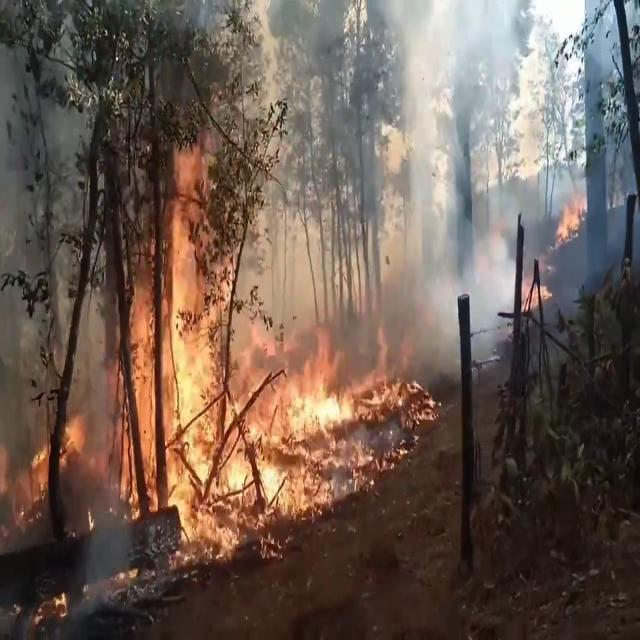Fire: (100, 145, 364, 548), (548, 188, 582, 250)
Smoke: (245, 0, 580, 354), (0, 0, 113, 373), (0, 386, 99, 503)
